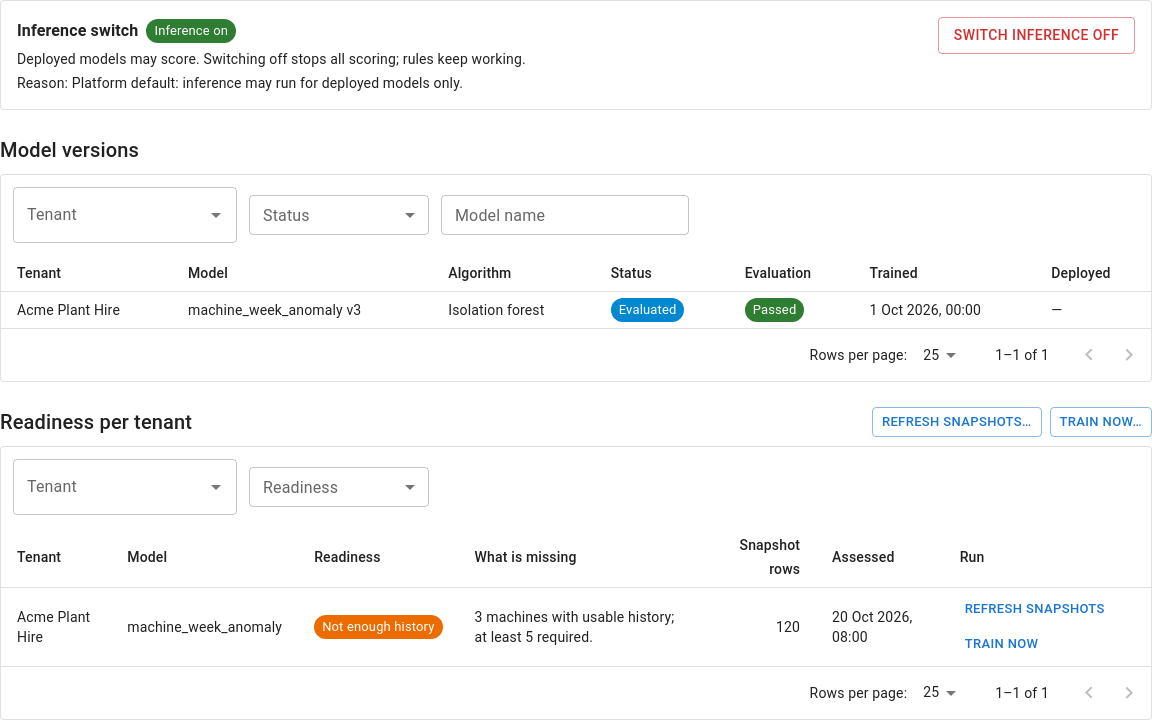
Test: ModelsPage › runs training for a tenant and summarises the new version
(page scrolled)
Expected: the text "Not enough history" is shown, x1=314 y1=617 x2=443 y2=637
Expected: the text "3 machines with usable history; at least 5 required." is shown, x1=459 y1=588 x2=704 y2=666
Click the button "Train now" at (1002, 644), box x1=960 y1=629 x2=1043 y2=660
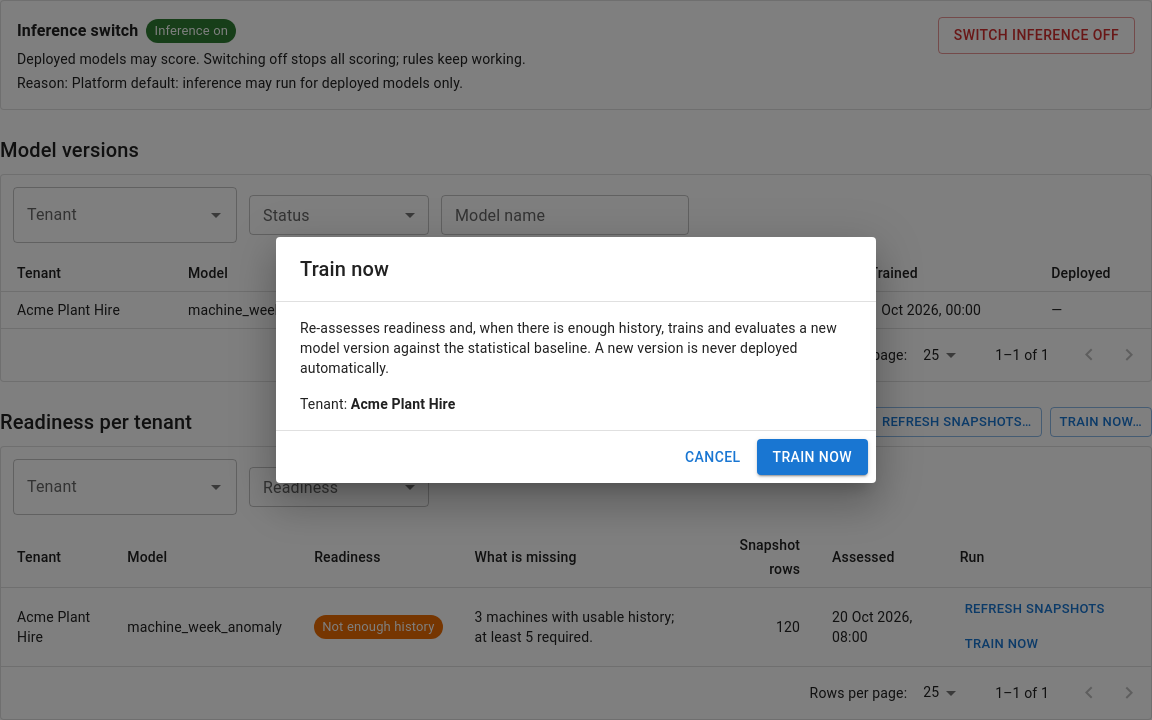
Expected: the text "never deployed automatically" is shown, x1=300 y1=320 x2=837 y2=376
Click the button "Train now" at (812, 457), box x1=756 y1=439 x2=868 y2=475
(page scrolled)
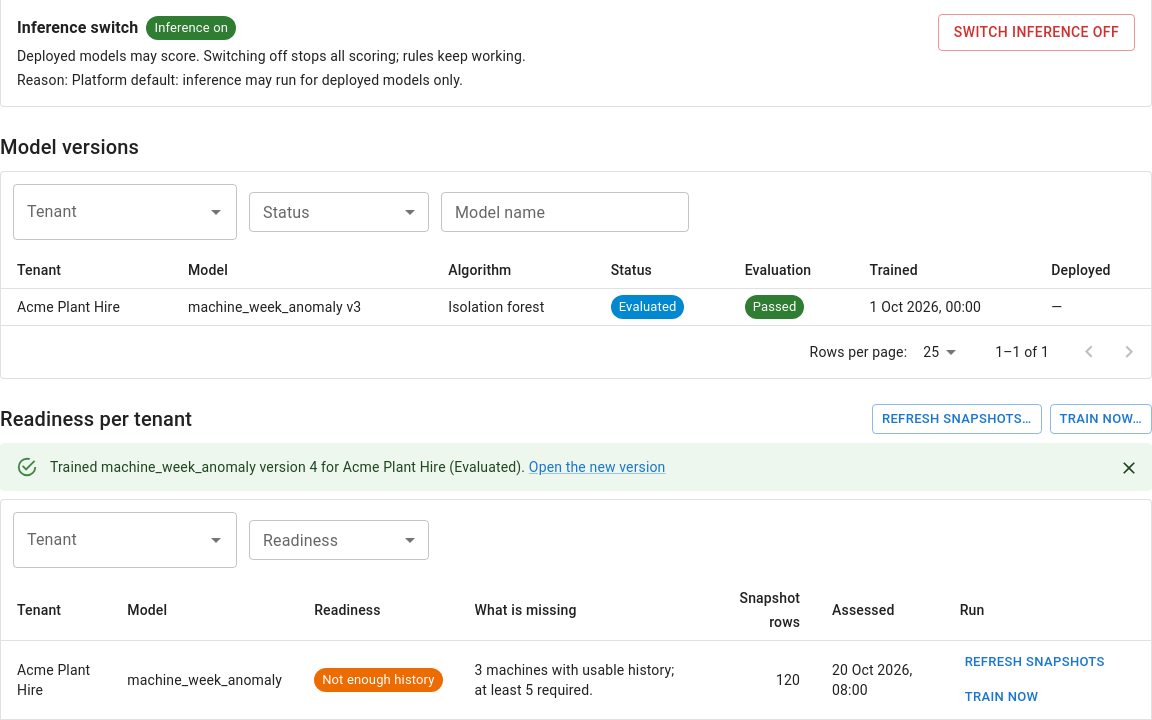
Expected: the text "Trained machine_week_anomaly version 4" is shown, x1=50 y1=459 x2=666 y2=475
